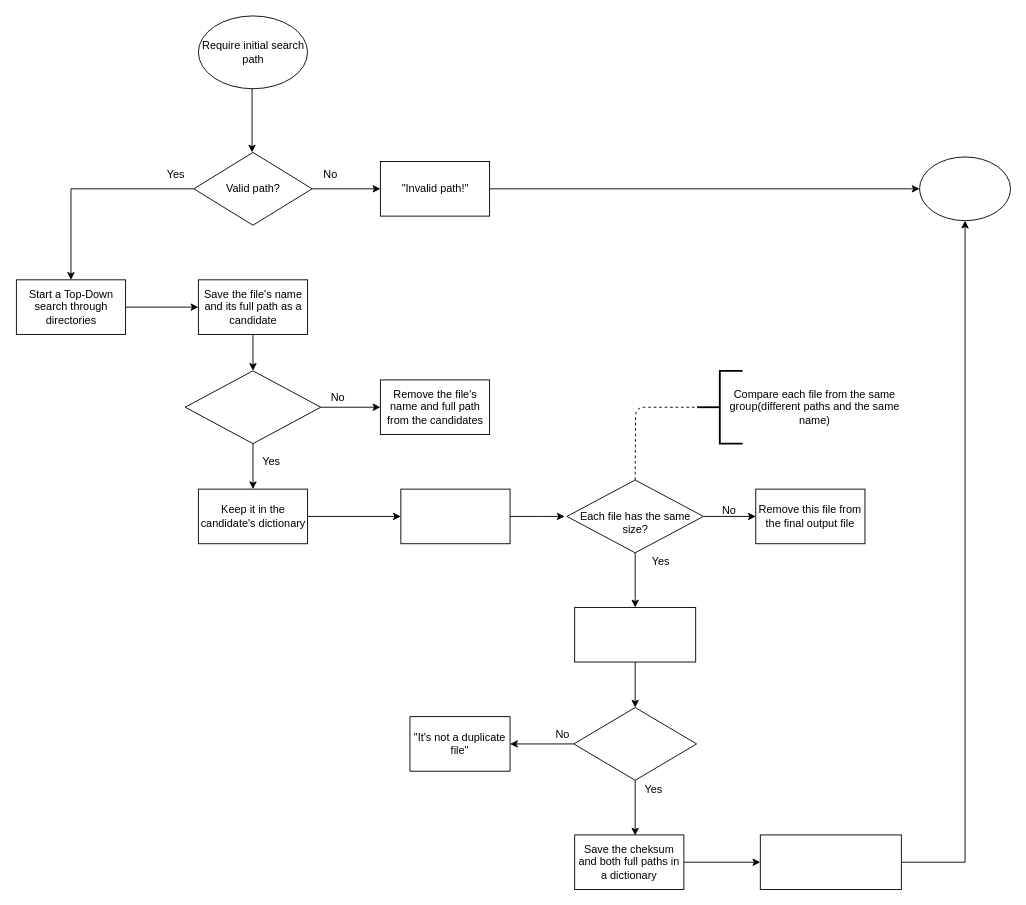
This 1026x905 diagram has some shape labels left out. Here are the shapes that lost their labels. From the top down, the centre of each, then its label:
At [965,188]: "End programm".
At [252,407]: "It has more than one path?".
At [455,516]: "Create a text file with the final candidates".
At [635,634]: "Read their content and create a cheksum for both candidates".
At [635,743]: "Their checksum are equal?".
At [830,862]: "Create the final output with the duplicate file's full path".
